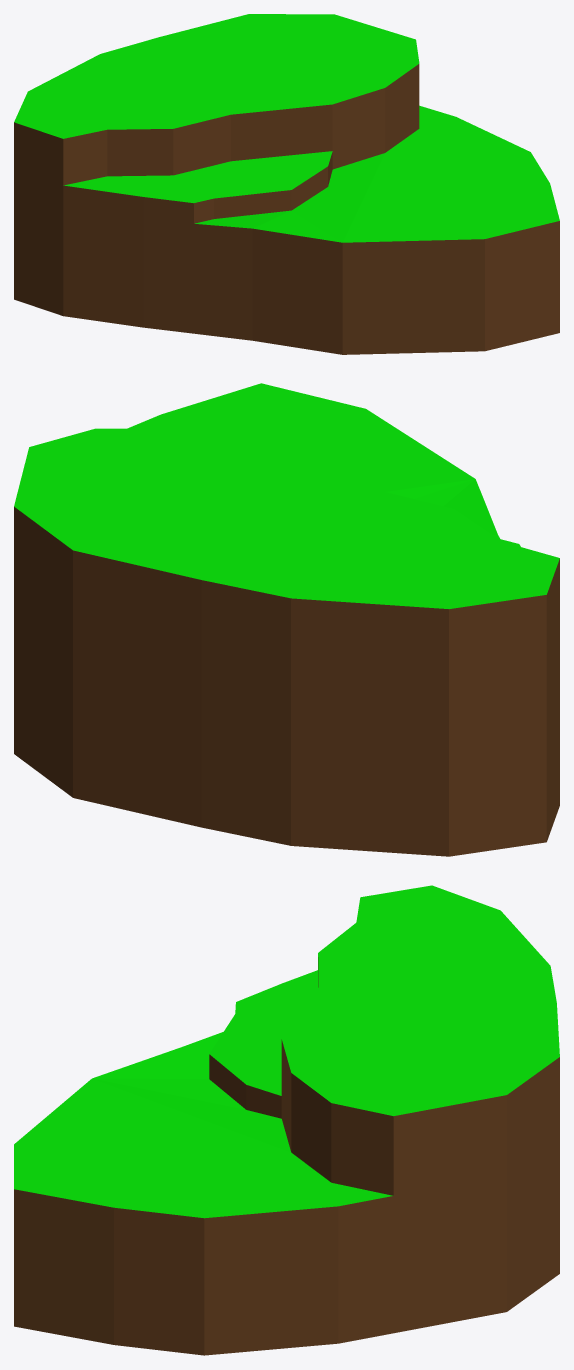
Rendered from Island06.fbx.
The picture shows the model from 3 angles, top to bottom: view 1: azimuth 30°, elevation 25°; view 2: azimuth 150°, elevation 25°; view 3: azimuth 270°, elevation 25°; orthographic projection. The views are drawn at different scales.
Visible parts, largest first — view 1: New_Game_Object; view 2: New_Game_Object; view 3: New_Game_Object.
Part boxes in pixels (box(x1,y1,x2,y2)): New_Game_Object: box(14, 14, 559, 354); New_Game_Object: box(14, 383, 559, 856); New_Game_Object: box(14, 885, 559, 1355).
Bounding box in the file's own units: 6406 × 5839 × 2940.
